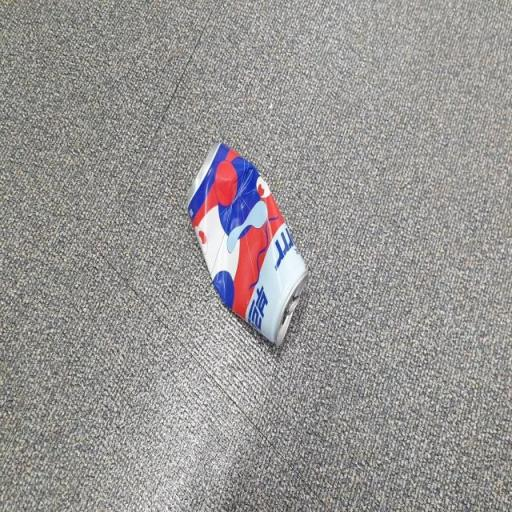metal: (168, 138, 332, 352)
